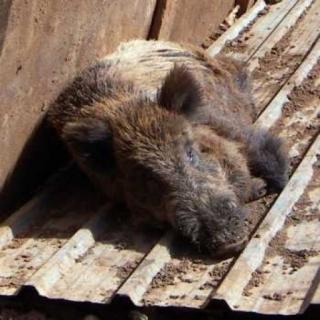Pig: (33, 7, 301, 242)
